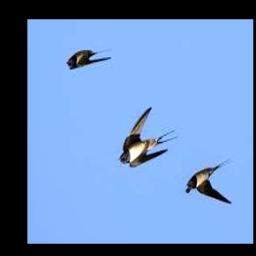Swallow: (119, 108, 179, 168), (186, 159, 232, 204), (67, 49, 112, 70)
